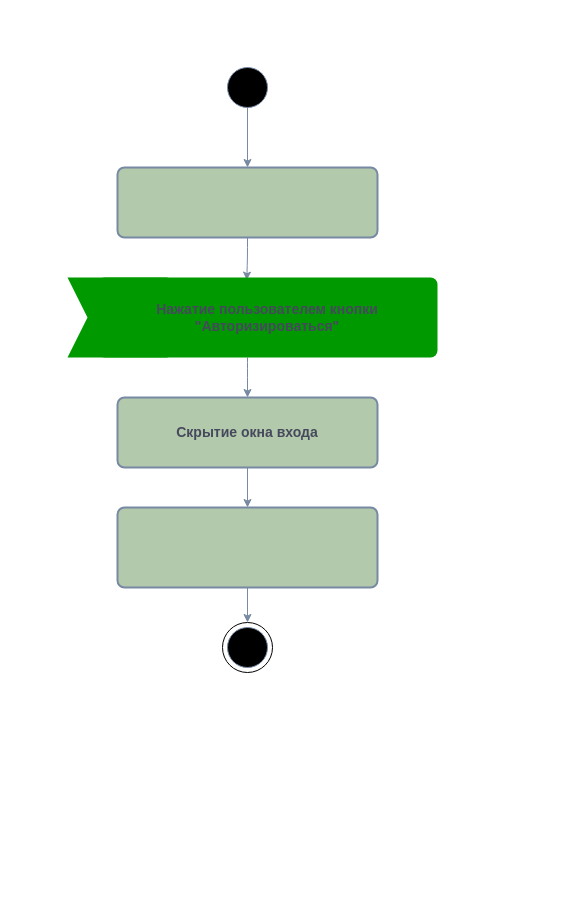
Image size: 575x905. Some labels were removed from this diagram. Here are the shapes that lost their labels. From the top down, the centre of each, then its label:
(x=247, y=202): Отображение окна входа
(x=247, y=547): Перемещение к профилю
